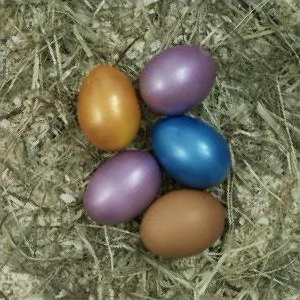egg: (141, 39, 217, 116), (82, 151, 161, 224), (151, 117, 231, 189), (77, 66, 139, 152)
